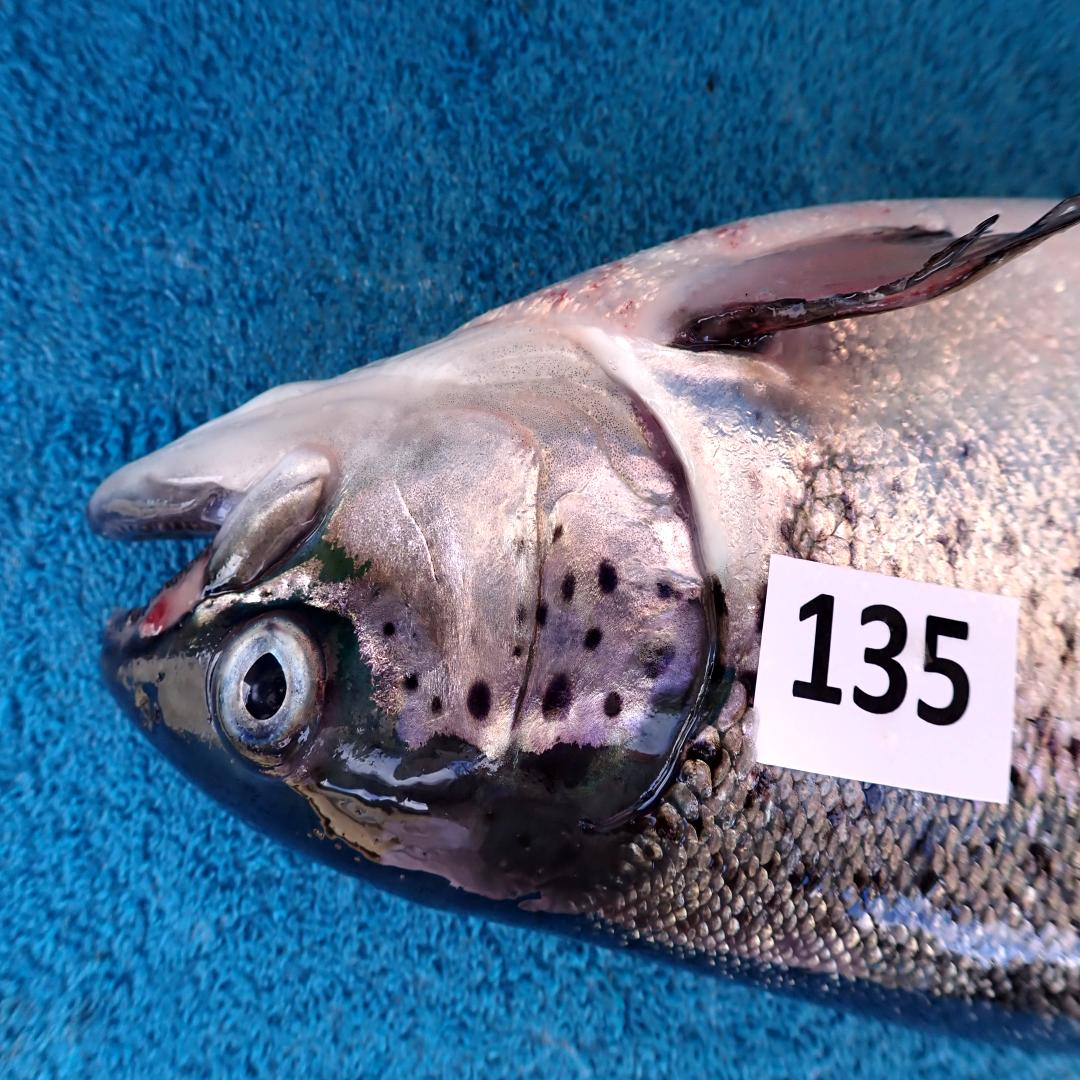roi: (336, 304, 712, 766)
